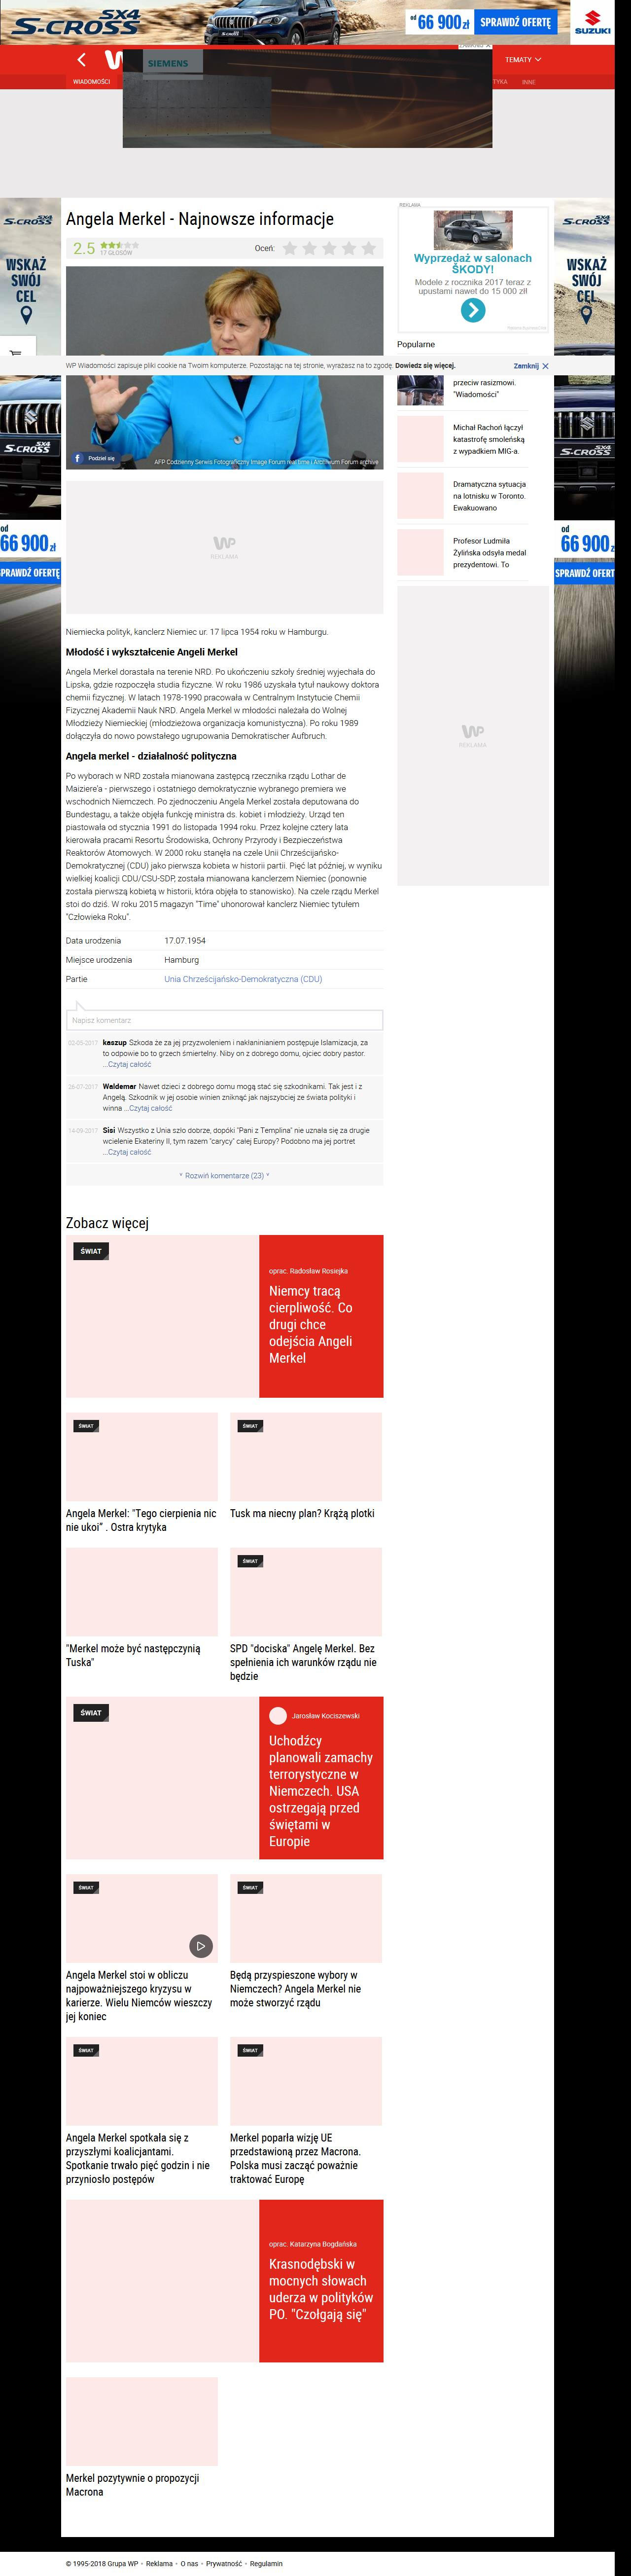title: (66, 209, 335, 232)
